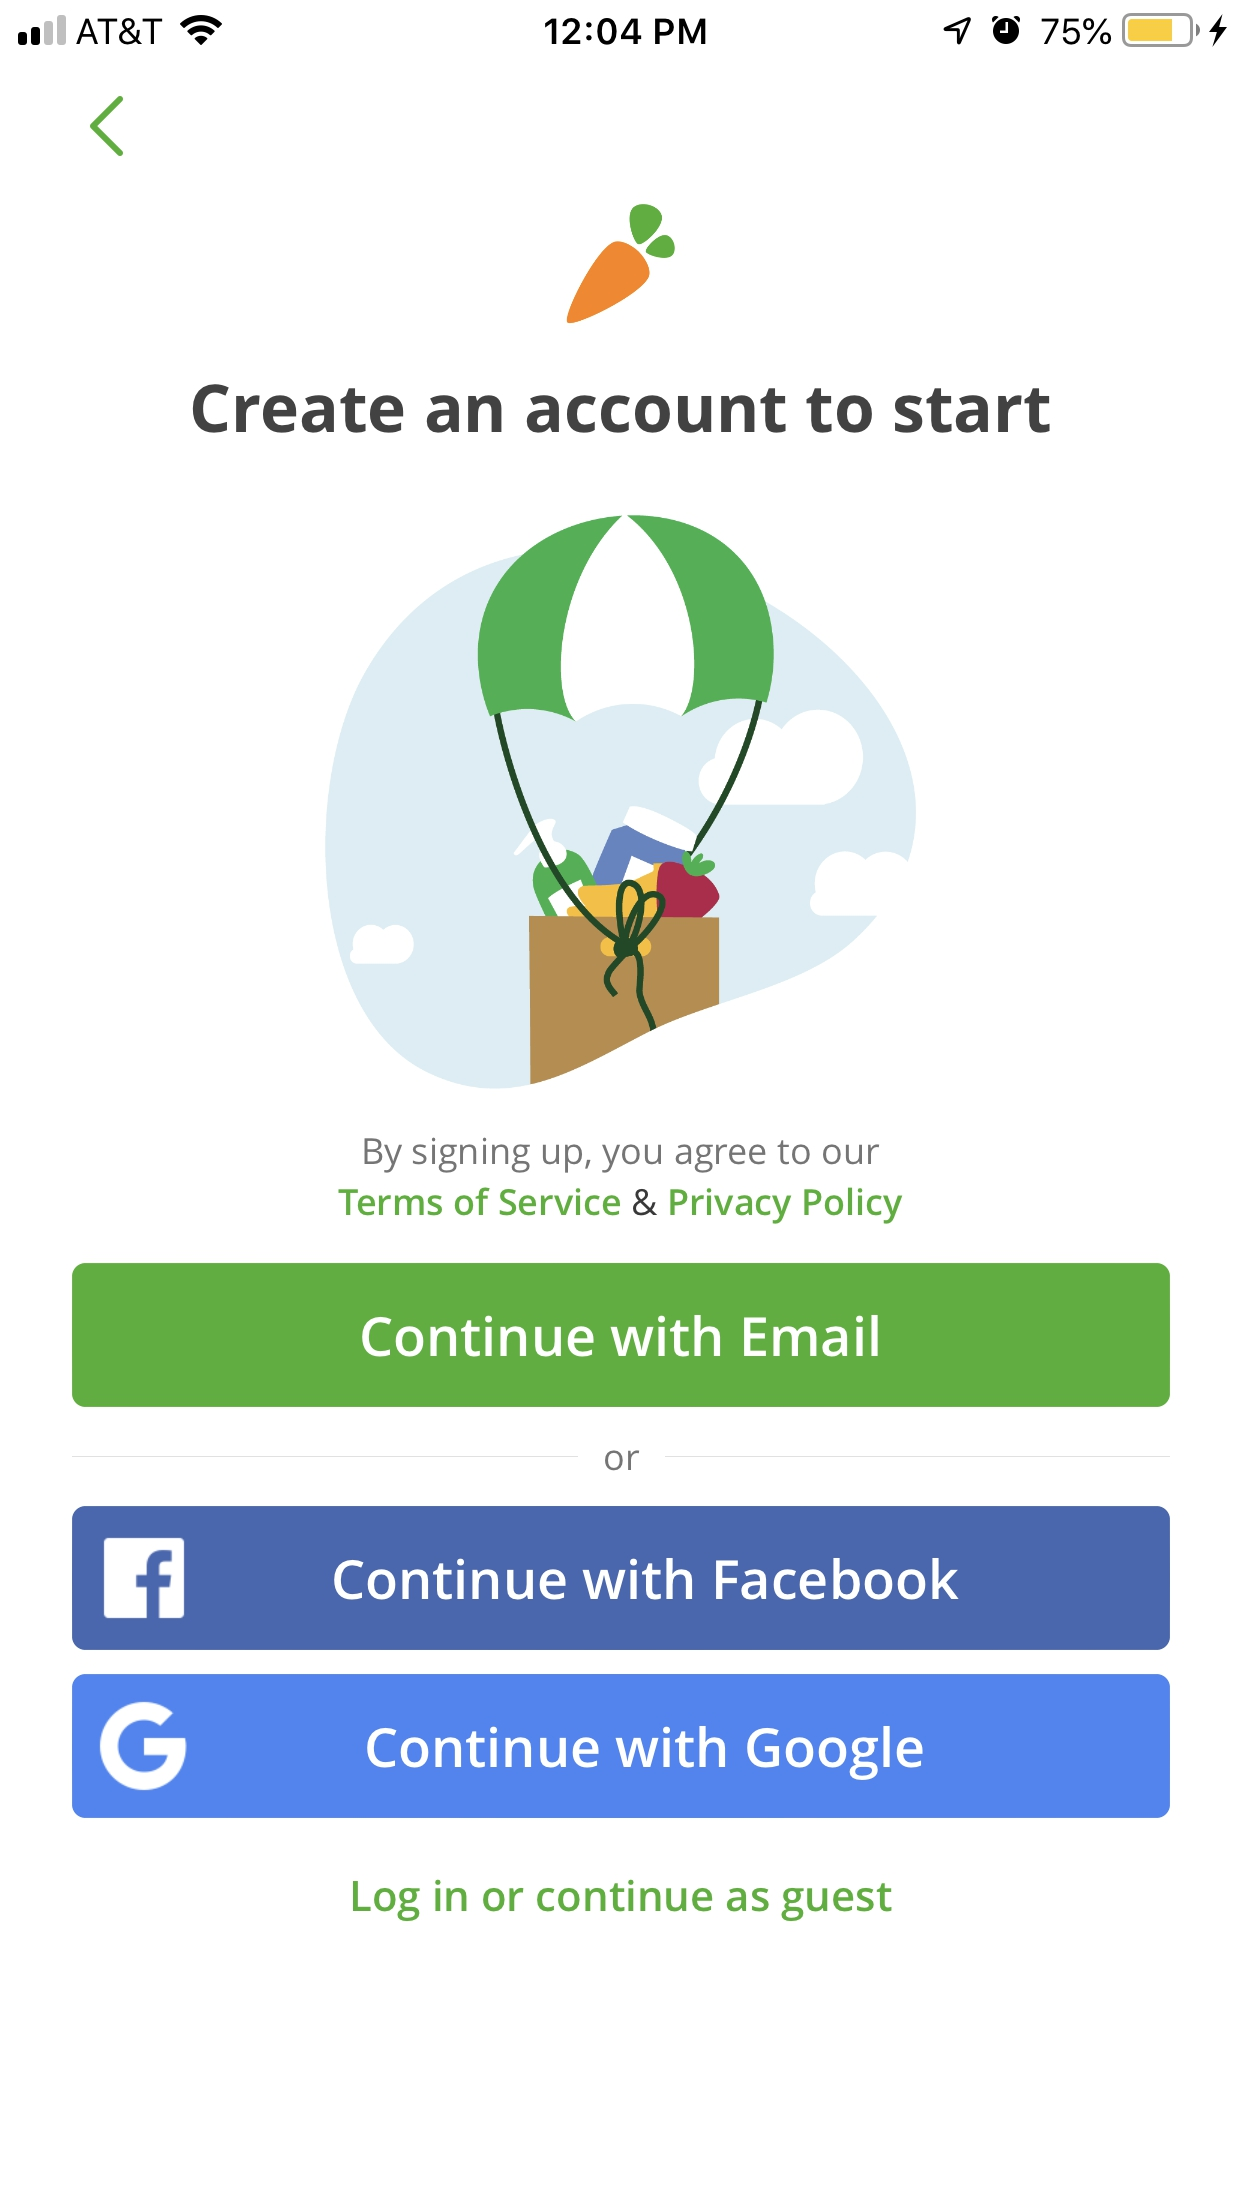Icon: (89, 96, 124, 158)
Image: (325, 514, 917, 1090), (566, 205, 676, 325)
Text: (338, 1137, 904, 1225), (193, 384, 1051, 435), (353, 1879, 893, 1921), (604, 1450, 640, 1473)
TextButton: (71, 1262, 1171, 1407), (73, 1506, 1171, 1651), (71, 1674, 1171, 1818)
UpperTaskBar: (2, 2, 1242, 49)
